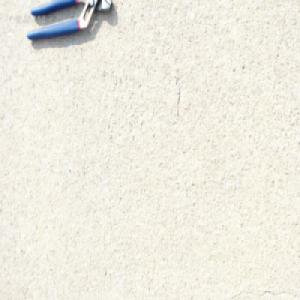Pliers: (26, 0, 114, 43)
